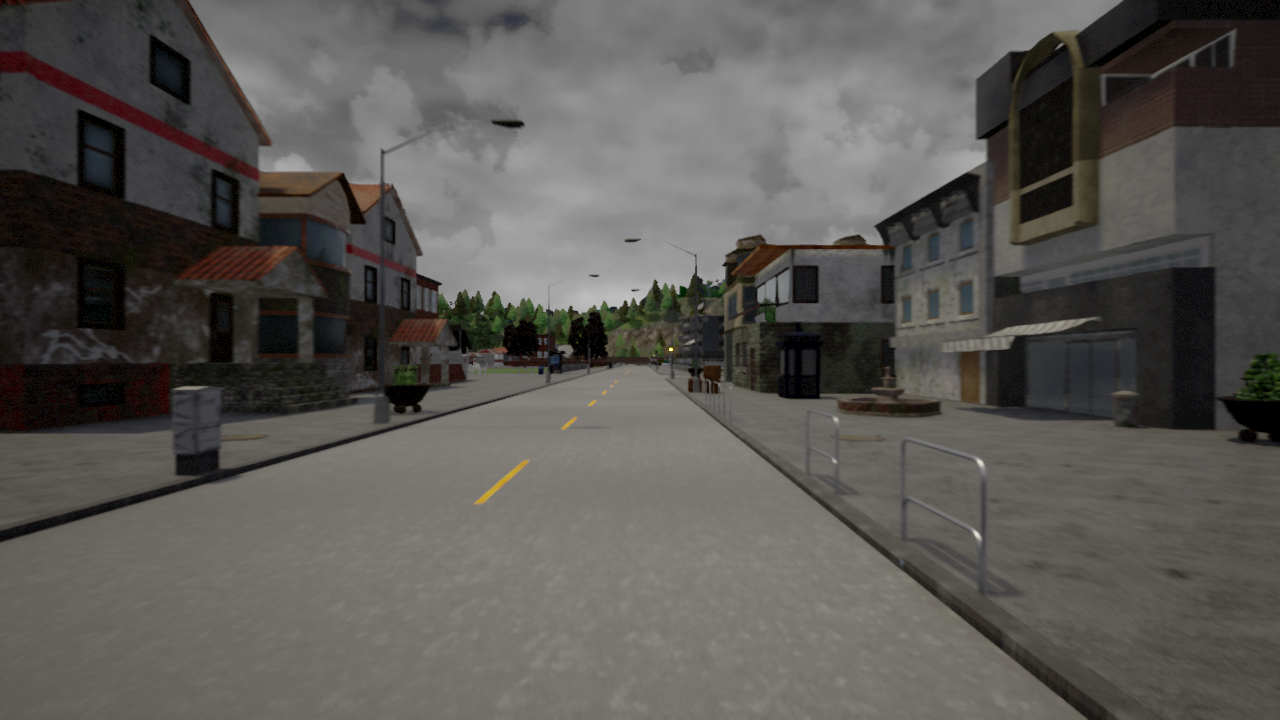yellow: (668, 342, 674, 356)
